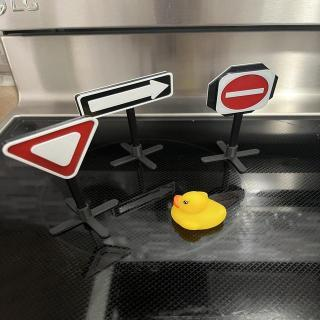duck_regular: (172, 193, 228, 233)
sign_noentry: (216, 69, 279, 118)
sign_oneway_right: (76, 72, 176, 120)
sign_yield: (3, 118, 101, 182)
